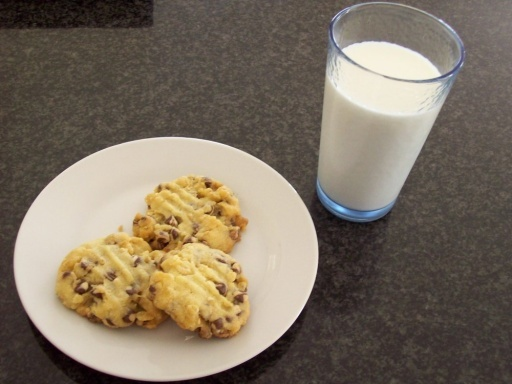background: (105, 24, 358, 127), (44, 100, 199, 203)
